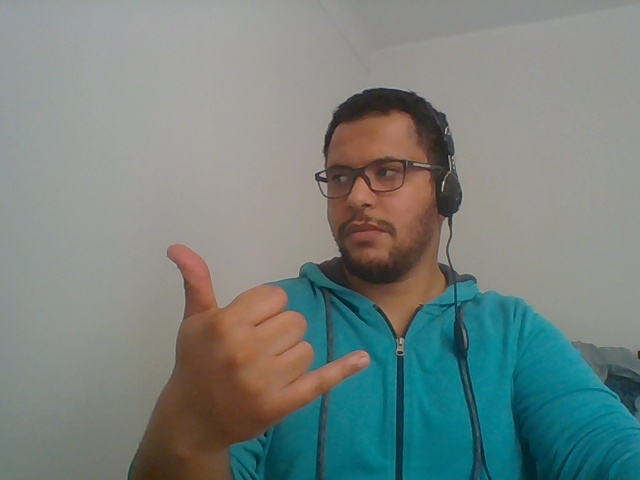callme: (149, 223, 374, 480)
